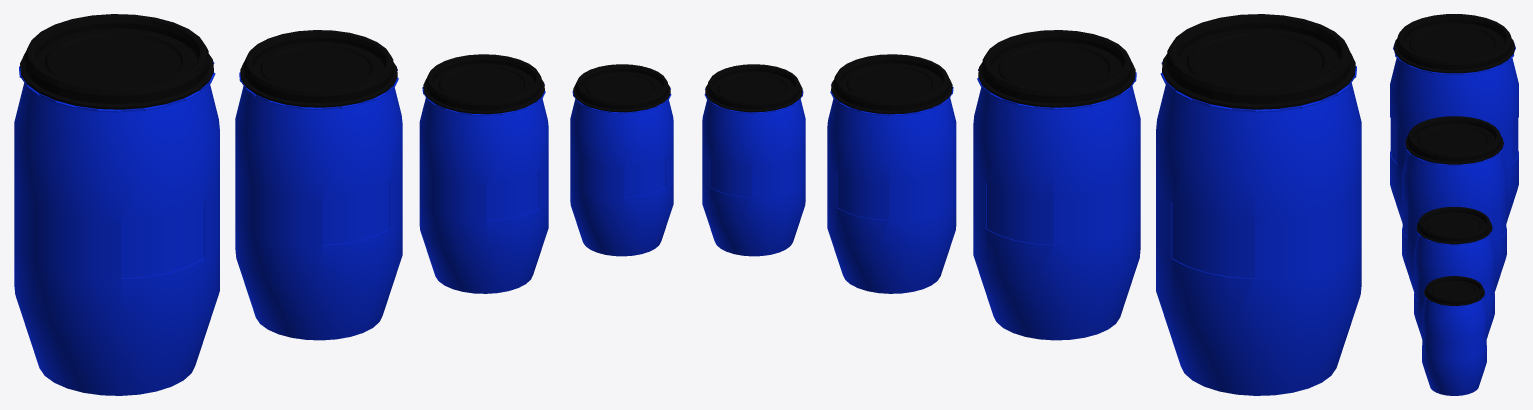
Rendered from Plastic_Barrel_FBX.fbx.
The picture shows the model from 3 angles, left to right: view 1: azimuth 30°, elevation 25°; view 2: azimuth 150°, elevation 25°; view 3: azimuth 270°, elevation 25°; orthographic projection. The views are drawn at different scales.
Visible parts, largest first — view 1: Cylinder001, Cylinder003, Cylinder004, XL, Cylinder005, L, M, S; view 2: Cylinder001, Cylinder003, Cylinder004, XL, Cylinder005, L, M, S; view 3: Cylinder001, Cylinder003, XL, Cylinder005, Cylinder004, L, M, S.
Boxes of the visible parts, <box> form: Cylinder001: <box>14,62,219,395</box>; Cylinder003: <box>235,69,402,340</box>; Cylinder004: <box>419,84,548,293</box>; XL: <box>20,14,213,109</box>; Cylinder005: <box>570,88,673,256</box>; L: <box>240,30,397,107</box>; M: <box>423,54,544,114</box>; S: <box>573,64,670,112</box>; Cylinder001: <box>1156,62,1361,395</box>; Cylinder003: <box>973,69,1140,340</box>; Cylinder004: <box>827,84,956,293</box>; XL: <box>1162,14,1355,109</box>; Cylinder005: <box>702,88,805,256</box>; L: <box>978,30,1135,107</box>; M: <box>831,54,952,114</box>; S: <box>705,64,802,112</box>; Cylinder001: <box>1390,42,1518,223</box>; Cylinder003: <box>1402,140,1506,291</box>; XL: <box>1393,14,1515,73</box>; Cylinder005: <box>1422,292,1486,395</box>; Cylinder004: <box>1414,226,1494,338</box>; L: <box>1405,116,1503,164</box>; M: <box>1416,207,1492,244</box>; S: <box>1424,276,1484,305</box>.
Bounding box in the file's own units: 40.47 × 18.88 × 11.33.
